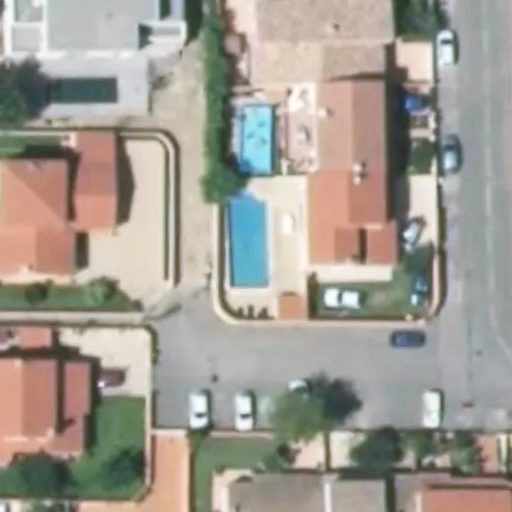pool: (235, 202, 276, 281)
